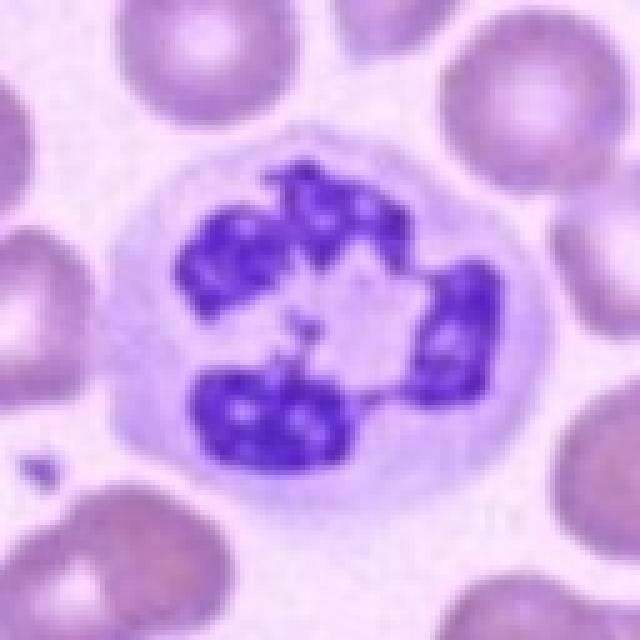neutro: (111, 150, 584, 557)
